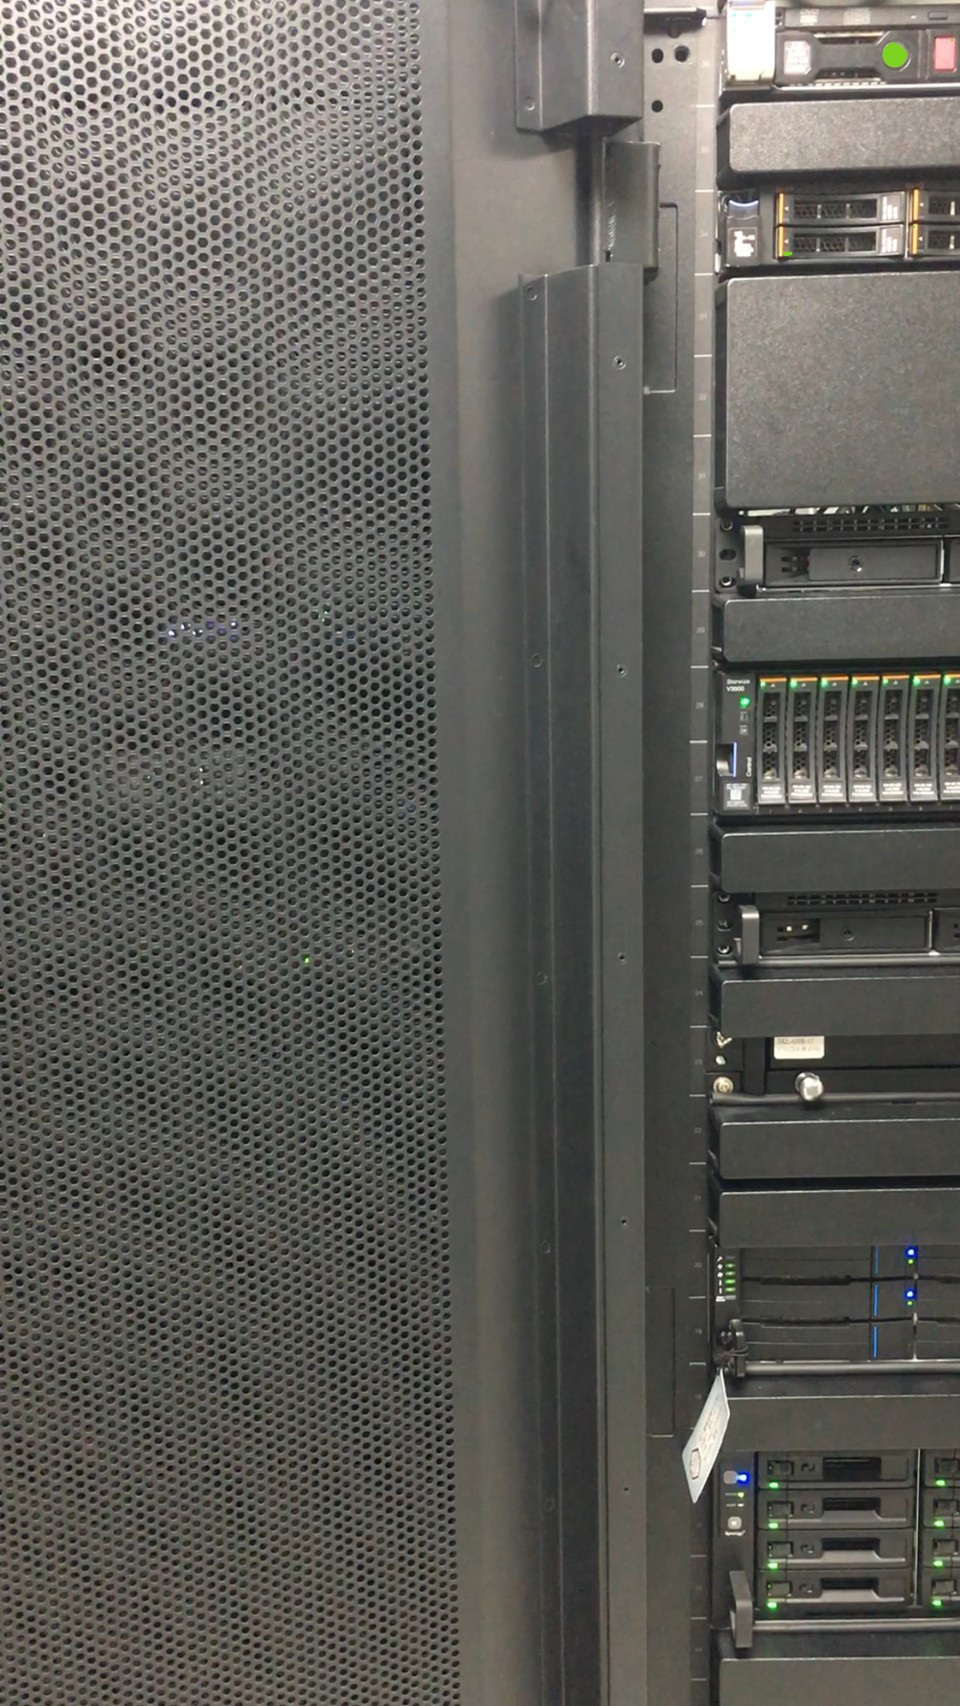HDD_normal: (778, 225, 910, 260)
HDD_shut down: (775, 195, 908, 221), (912, 185, 960, 223), (914, 224, 960, 250)
